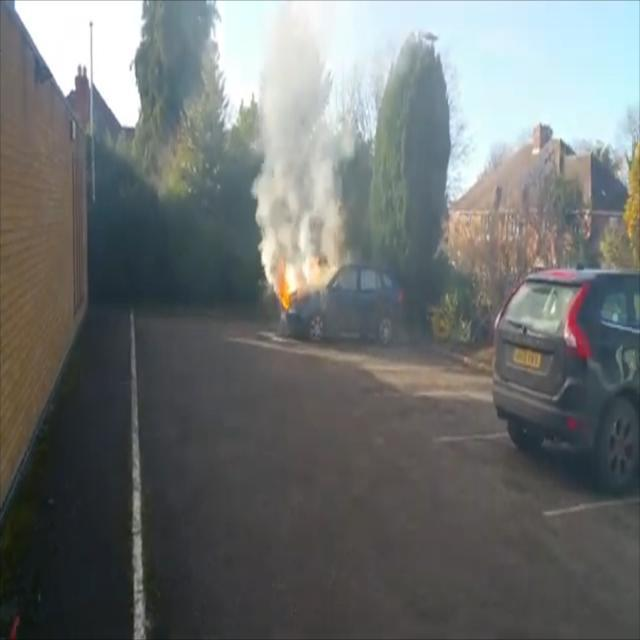fire: (272, 244, 332, 312)
